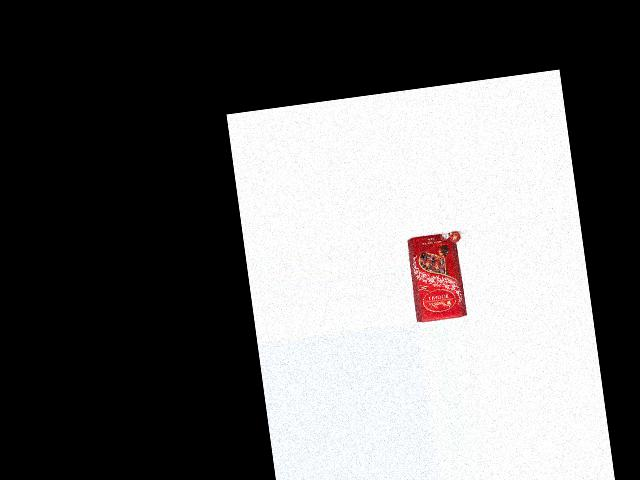chocolate: (406, 231, 472, 322)
